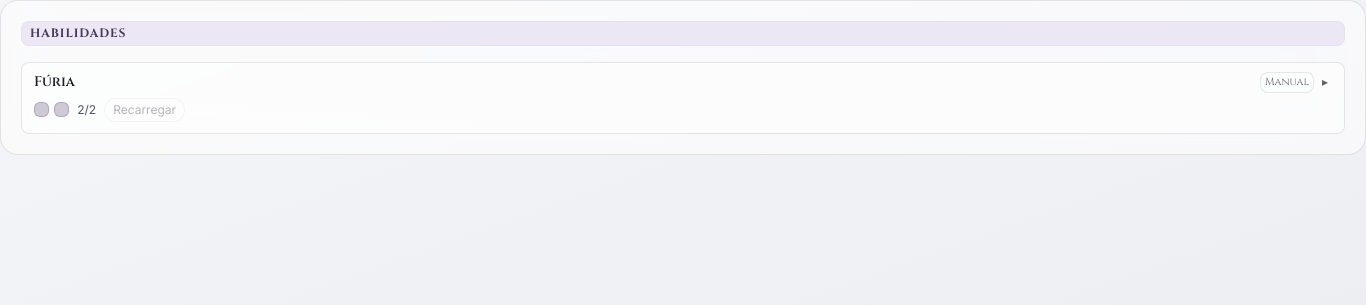
Test: limpar resultado de rolagem — CharacterTableMode › limpa o resultado de uma habilidade no modo mesa
Step 1. Click the button named "Ver detalhes" → (1325, 82), box [1318,74,1332,90]
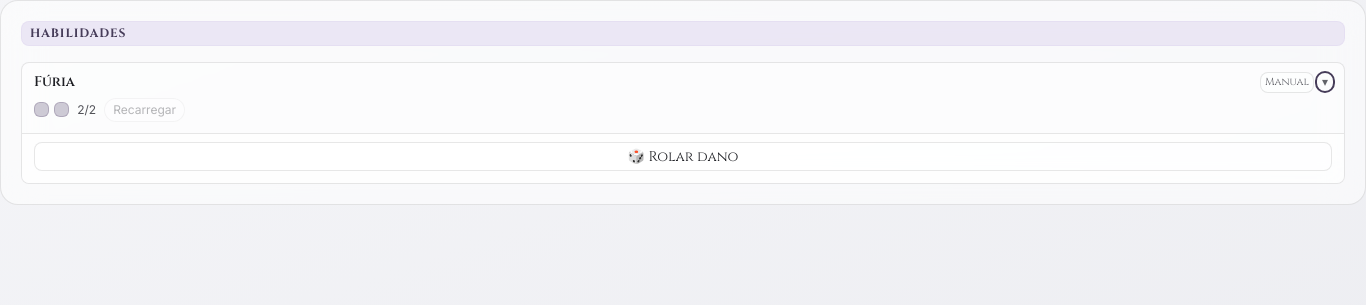
Step 2. Click the button "🎲 Rolar dano" → (683, 156), box [34,142,1332,171]
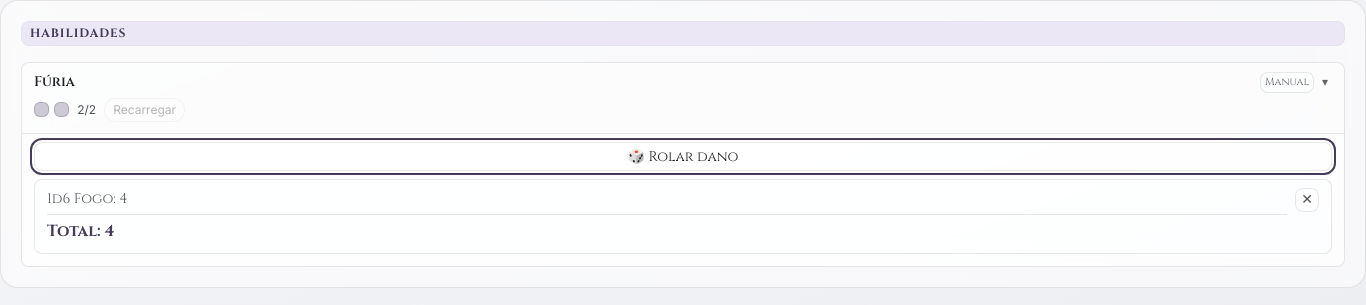
Check: the text "Total: 4" is shown, box [47,214,1287,245]
Step 3. Click the button named "Limpar resultado da rolagem" → (1307, 200), box [1295,188,1319,212]
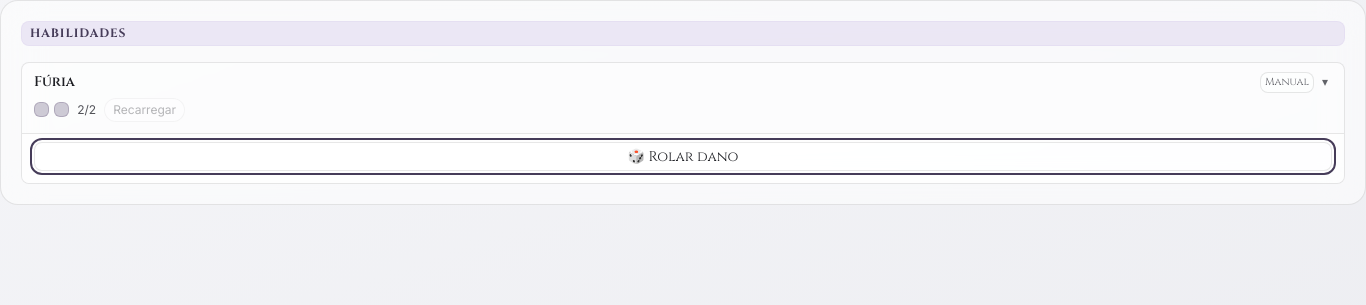
Check: the text "Total: 4" is gone
Step 4. Click the button "🎲 Rolar dano" → (683, 156), box [34,142,1332,171]
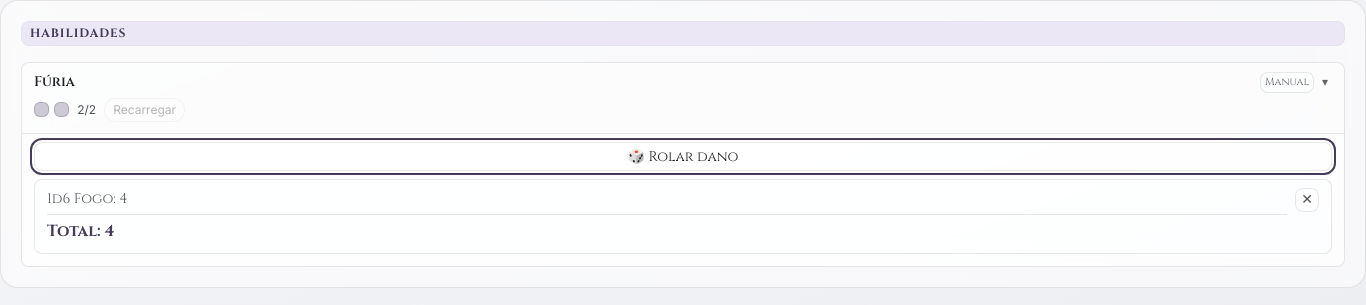
Check: the text "Total: 4" is shown, box [47,214,1287,245]
